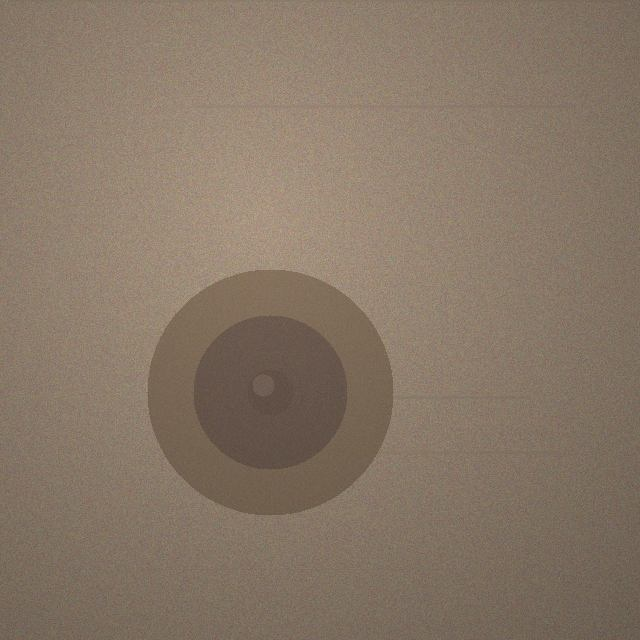good: (147, 269, 393, 515)
